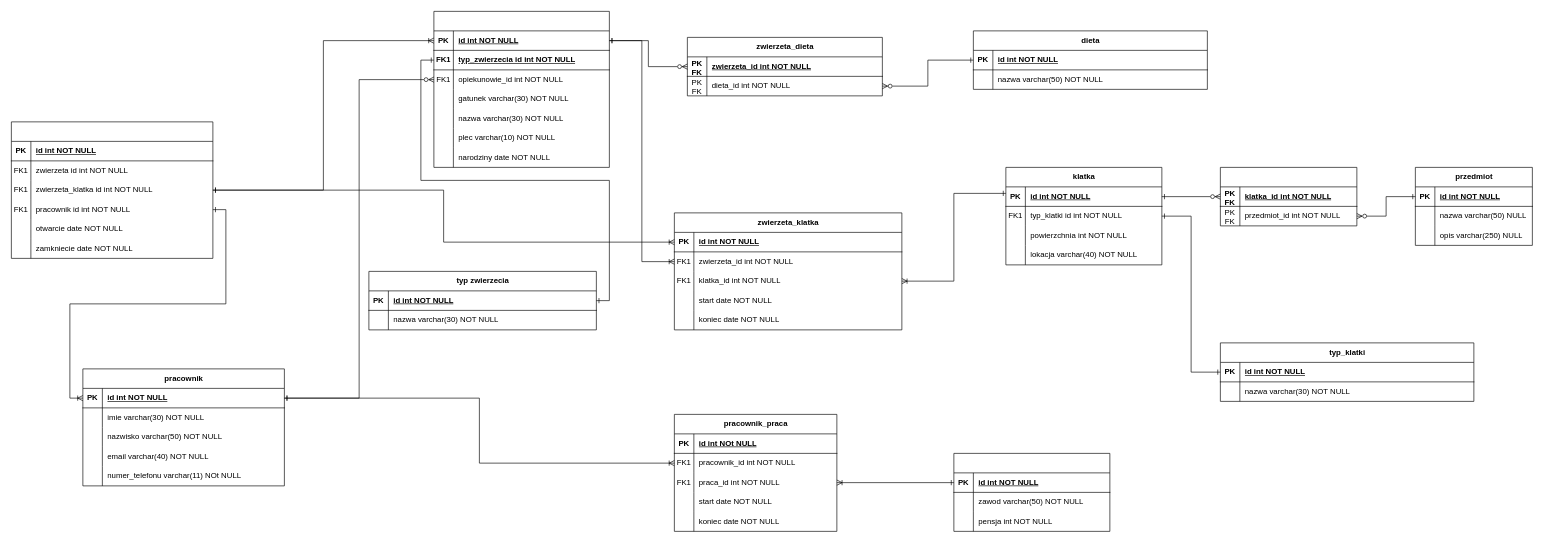
Image size: 1544x543. Some labels were removed from this diagram. Each missing label, with the box of its shape:
klatka_przedmiot: (1220, 167, 1357, 226)
praca: (953, 453, 1110, 531)
zoo: (11, 121, 213, 258)
zwierzeta: (433, 11, 609, 167)
